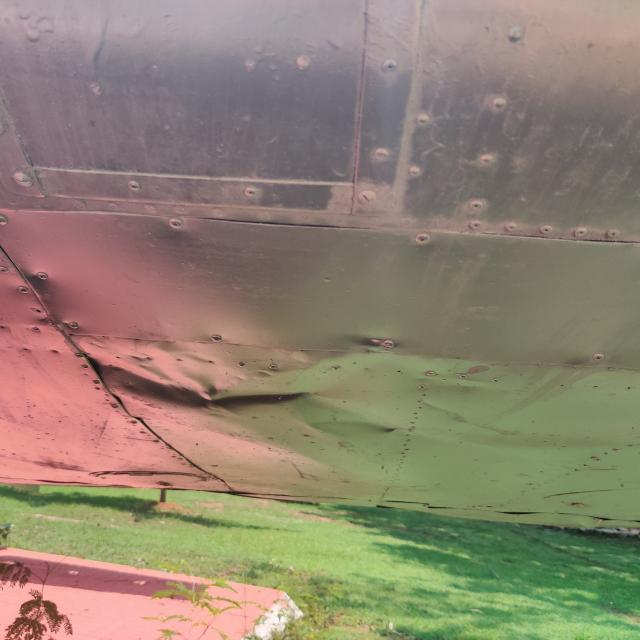dent: (72, 324, 344, 431)
